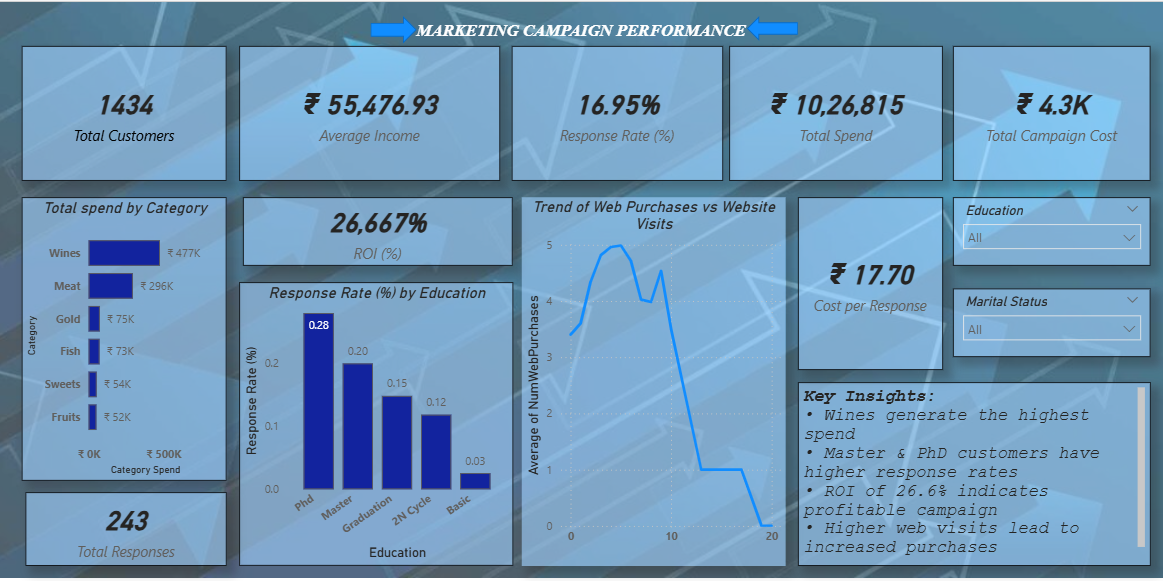

Layout of this report page (visuals, bound fields, positions):
{"tool":"powerbi","page":{"name":"Page 1","canvas":[1280,720],"ordinal":0},"visuals":[{"type":"card","fields":{"Values":["Sheet1.Total Customers"]},"box":[26.1,93.3,225,148.2],"z":0},{"type":"textbox","box":[349.9,60.4,580.4,46.7],"z":1000},{"type":"card","fields":{"Values":["Sheet1.Average Income"]},"box":[264.8,93.3,286.8,148.2],"z":2000},{"type":"card","fields":{"Values":["Sheet1.Response Rate (%)"]},"box":[564,93.3,231.9,148.2],"z":3000},{"type":"card","fields":{"Values":["Sum(Sheet1.Total_spend)"]},"box":[802.7,93.3,234.6,148.2],"z":4000},{"type":"clusteredColumnChart","fields":{"Category":["Sheet1.Education"],"Y":["Sheet1.Response Rate (%)"]},"box":[264.8,352.7,300.5,311.5],"z":5000},{"type":"card","fields":{"Values":["Sheet1.Total Campaign Cost"]},"box":[1048.4,93.3,216.8,148.2],"z":6000},{"type":"clusteredBarChart","title":"Total spend by Category","fields":{"Y":["ProductCategory.Category Spend"],"Category":["ProductCategory.Category"]},"box":[26,259,225,311],"z":7000},{"type":"card","fields":{"Values":["ProductCategory.ROI (%)"]},"box":[269,259.3,296.4,75.5],"z":8000},{"type":"card","fields":{"Values":["ProductCategory.Total Responses"]},"box":[30.2,583.2,220.9,81],"z":9000},{"type":"shape","box":[408.9,60.4,50.8,30.2],"z":10000},{"type":"shape","box":[822,60.4,56.3,27.4],"z":11000},{"type":"actionButton","box":[0,0,100,40],"z":12000},{"type":"lineChart","title":"Trend of Web Purchases vs Website Visits","fields":{"Category":["Sheet1.NumWebVisitsMonth"],"Y":["Avg(Sheet1.NumWebPurchases)"]},"box":[575,259.3,289.5,404.8],"z":13000},{"type":"textbox","box":[878.2,462.4,387,201.7],"z":14000},{"type":"card","fields":{"Values":["ProductCategory.Cost per Response"]},"box":[878.2,259.3,159.2,189.4],"z":15000},{"type":"slicer","fields":{"Values":["Sheet1.Education"]},"box":[1048.4,259.3,216.8,75.5],"z":16000},{"type":"slicer","fields":{"Values":["Sheet1.Marital_Status"]},"box":[1048.4,359.5,216.8,75.5],"z":17000}]}

Visuals, with their boxes on the page's 1280x720 design canvas (x1, y1, x2, y2). These are canvas units, not pixel positions in the 1163x581 screenshot, which may show the page scaled, cropped or inside an application window:
card - Sheet1.Total Customers: rect(26, 93, 251, 242)
textbox: rect(350, 60, 930, 107)
card - Sheet1.Average Income: rect(265, 93, 552, 242)
card - Sheet1.Response Rate (%): rect(564, 93, 796, 242)
card - Sum(Sheet1.Total_spend): rect(803, 93, 1037, 242)
clusteredColumnChart - Sheet1.Education x Sheet1.Response Rate (%): rect(265, 353, 565, 664)
card - Sheet1.Total Campaign Cost: rect(1048, 93, 1265, 242)
"Total spend by Category" clusteredBarChart: rect(26, 259, 251, 570)
card - ProductCategory.ROI (%): rect(269, 259, 565, 335)
card - ProductCategory.Total Responses: rect(30, 583, 251, 664)
shape: rect(409, 60, 460, 91)
shape: rect(822, 60, 878, 88)
actionButton: rect(0, 0, 100, 40)
"Trend of Web Purchases vs Website Visits" lineChart: rect(575, 259, 864, 664)
textbox: rect(878, 462, 1265, 664)
card - ProductCategory.Cost per Response: rect(878, 259, 1037, 449)
slicer - Sheet1.Education: rect(1048, 259, 1265, 335)
slicer - Sheet1.Marital_Status: rect(1048, 360, 1265, 435)
